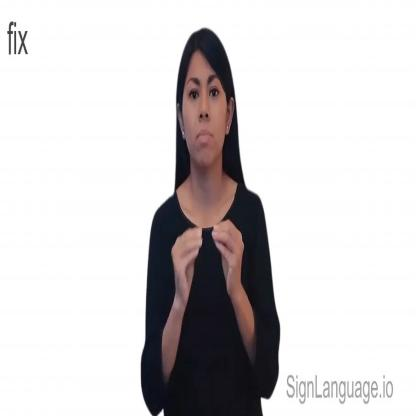Fix: (141, 24, 281, 416)
